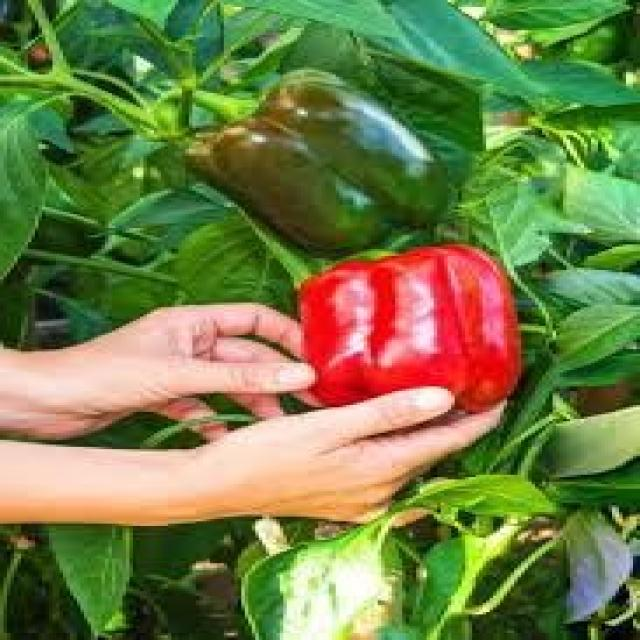bell_pepper: (157, 71, 457, 256), (297, 246, 525, 421)
